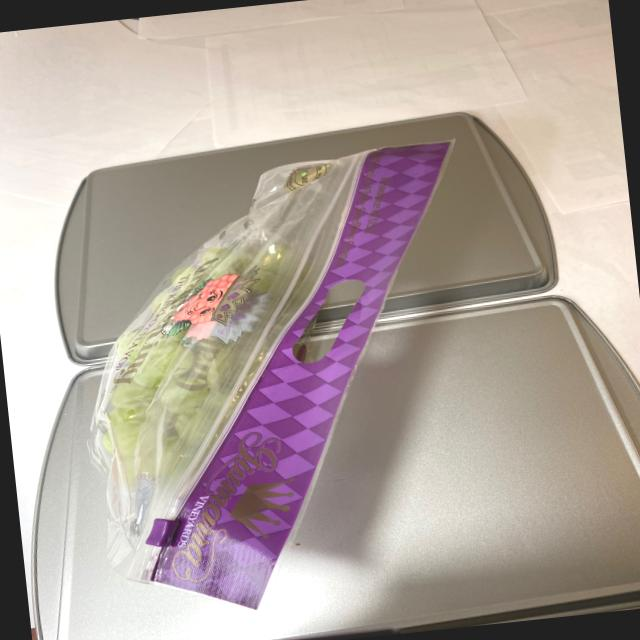grapes: (68, 210, 319, 497)
